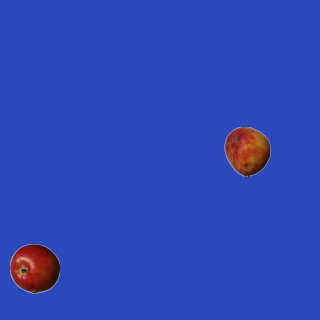Apple Braeburn: (9, 243, 59, 293)
Peach: (222, 126, 272, 176)
